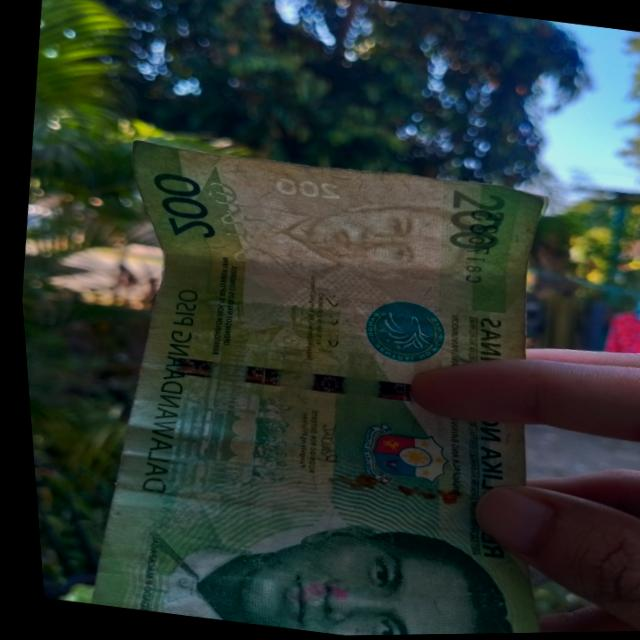security_thread: (135, 348, 411, 409)
see_through_mark: (187, 176, 257, 268)
serial_number: (447, 207, 515, 294)
value_watermark: (270, 171, 347, 207)
watermark: (225, 181, 481, 306)
